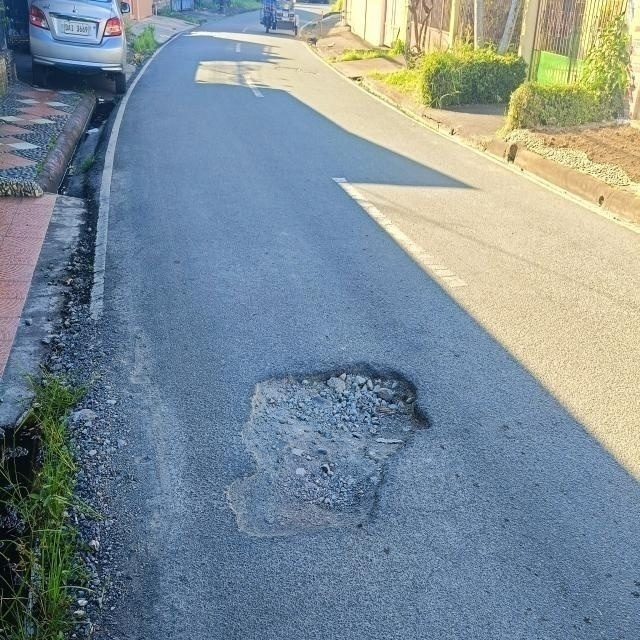pothole: (224, 368, 438, 520)
